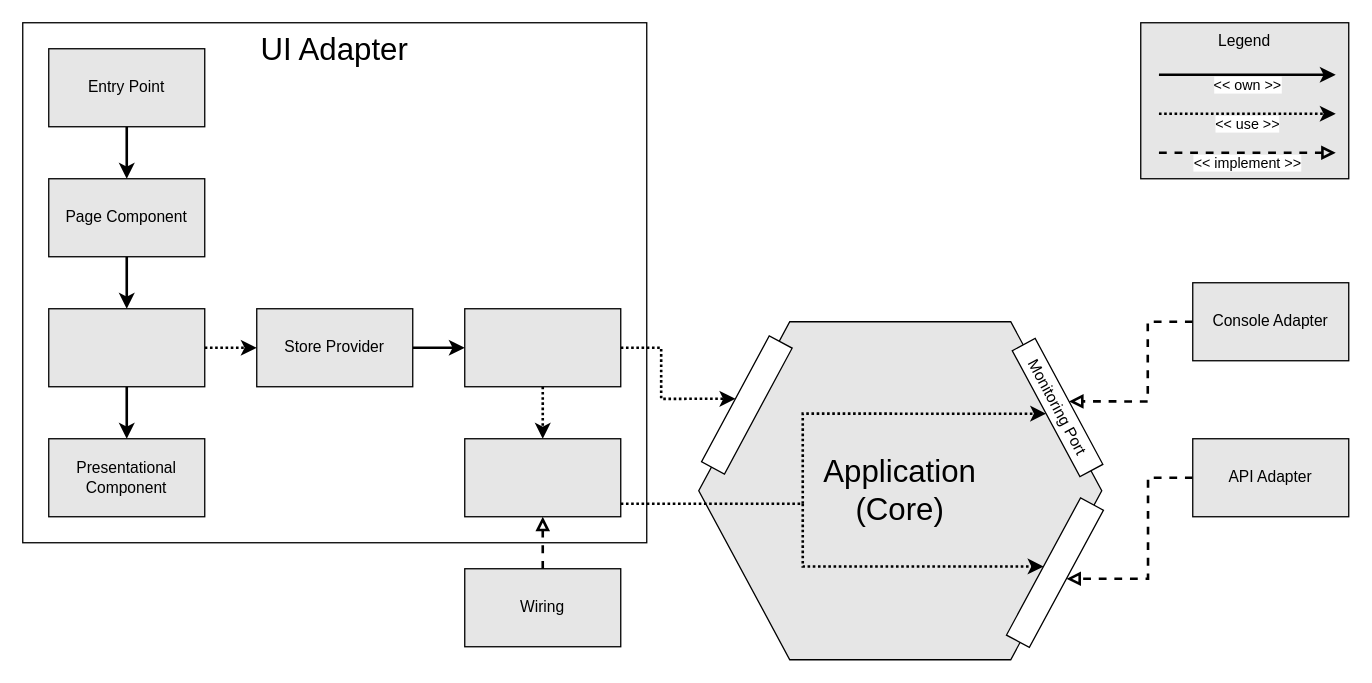
Some shapes in this 1372 by 683 pixel diagram are drawn without their labels. Each missing label, with the centre of its shape:
API Port: the point at 1054,572
Browser Page Port Collection: the point at 542,477
Connector Component: the point at 126,347
Store: the point at 542,347
Use-Case Port: the point at 746,404
